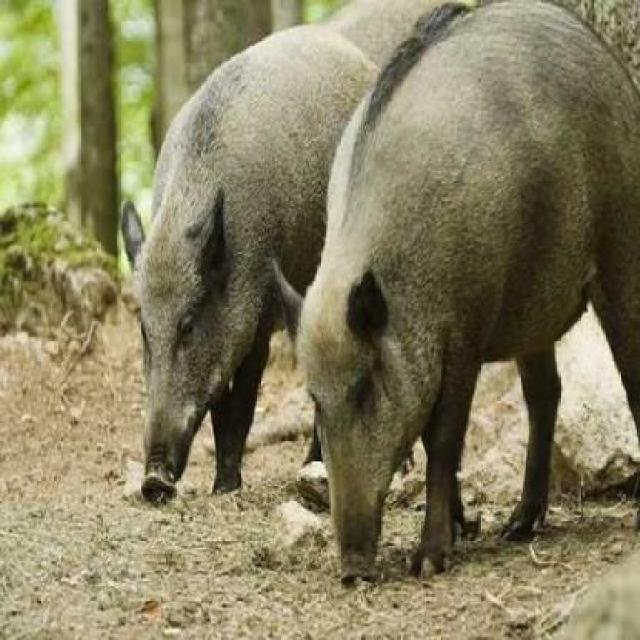pig: (272, 0, 640, 626), (80, 0, 358, 591)
